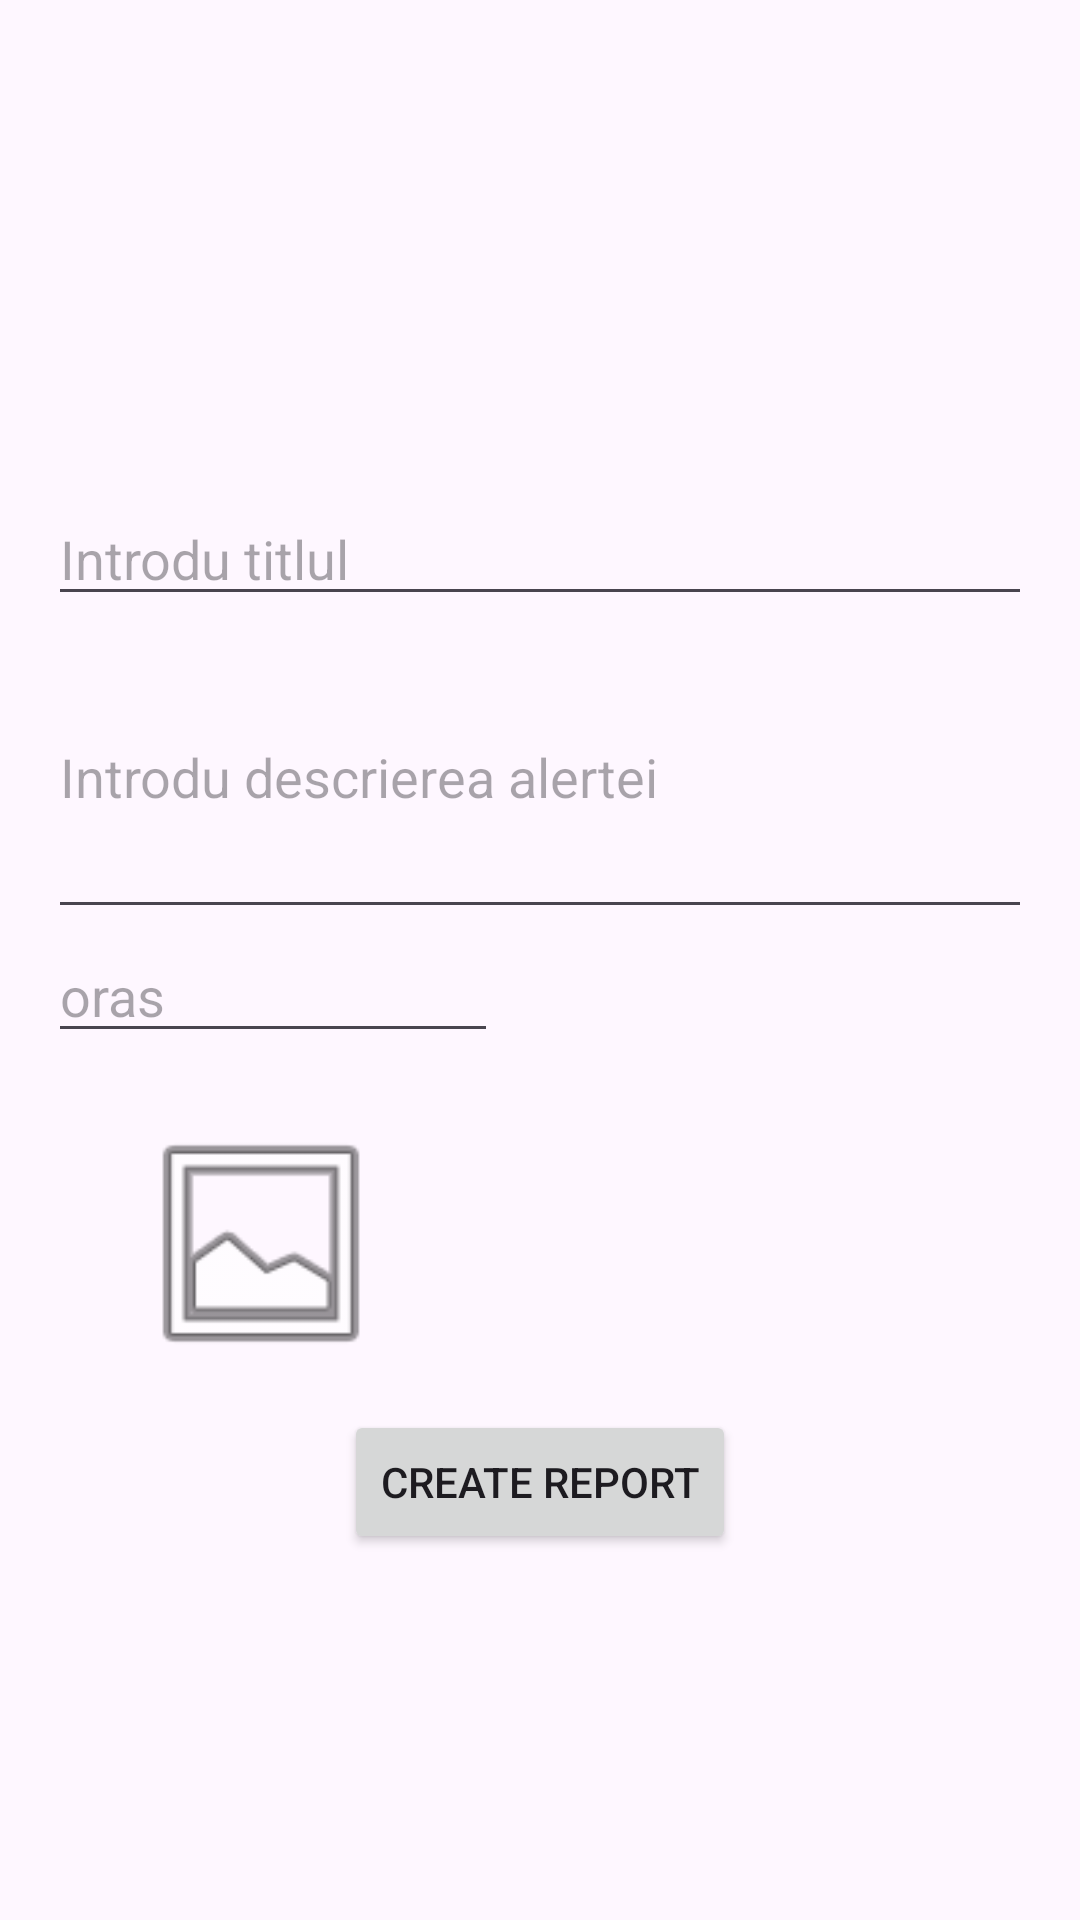

Named icons in this screenshot (1080 x 1920) and their centers, [x,y]:
gallery: [261,1243]
